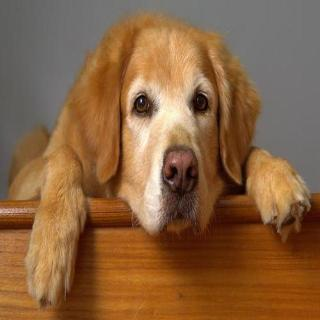dog: (66, 9, 258, 240)
nose: (160, 145, 202, 196)
